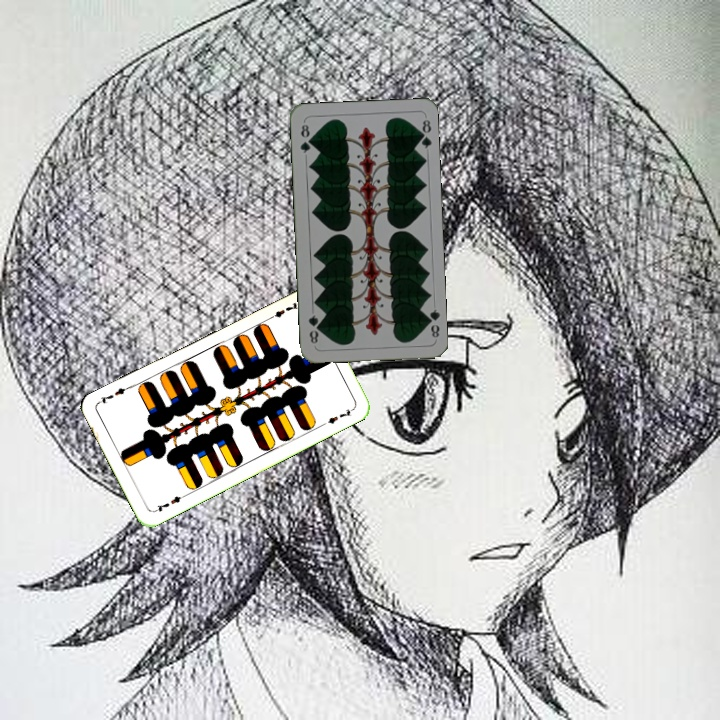E7: (263, 298, 301, 323), (150, 491, 188, 515)
G8: (422, 305, 442, 340), (296, 118, 314, 155)
